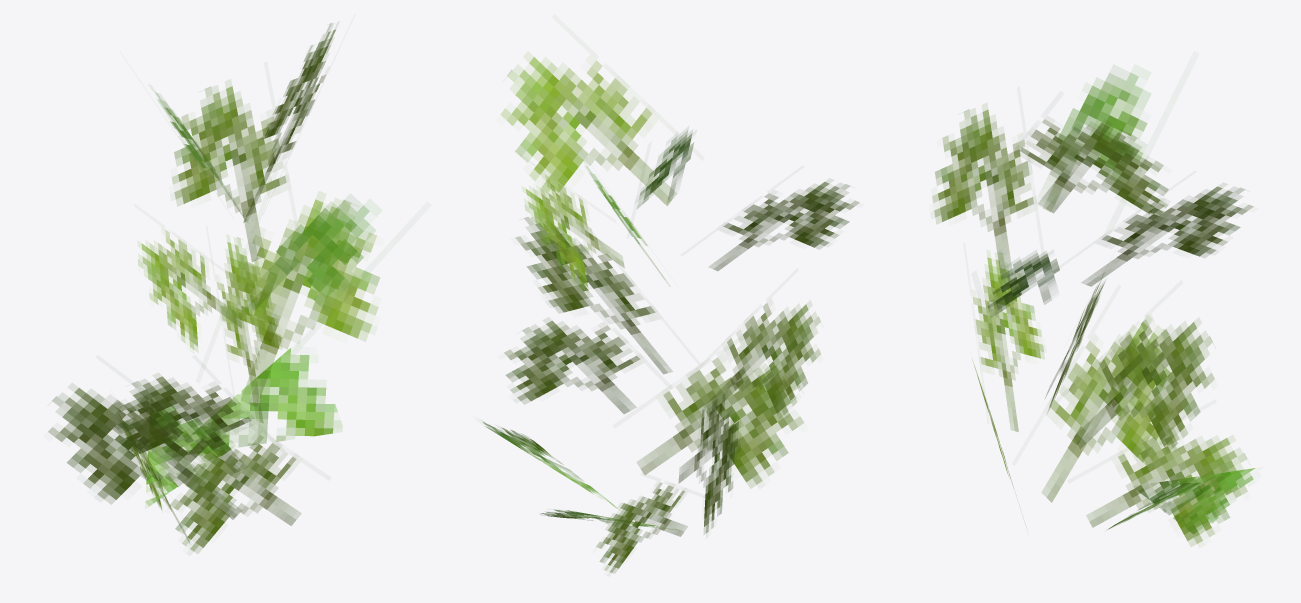
The model's file is bamboo-clump.lod2.glb.
3 renders of one model, left to right at view 1: azimuth 30°, elevation 25°; view 2: azimuth 150°, elevation 25°; view 3: azimuth 270°, elevation 25°, orthographic. The views are drawn at different scales.
Parts seen in each view (by area): view 1: Object_2; view 2: Object_2; view 3: Object_2.
Part boxes in pixels (bbox=[...]): Object_2: bbox=[48, 23, 379, 553]; Object_2: bbox=[483, 57, 859, 573]; Object_2: bbox=[932, 72, 1255, 546].
Size of the model in its own units: 2.76 by 4.11 by 2.45.
1 material, 1 textured.
